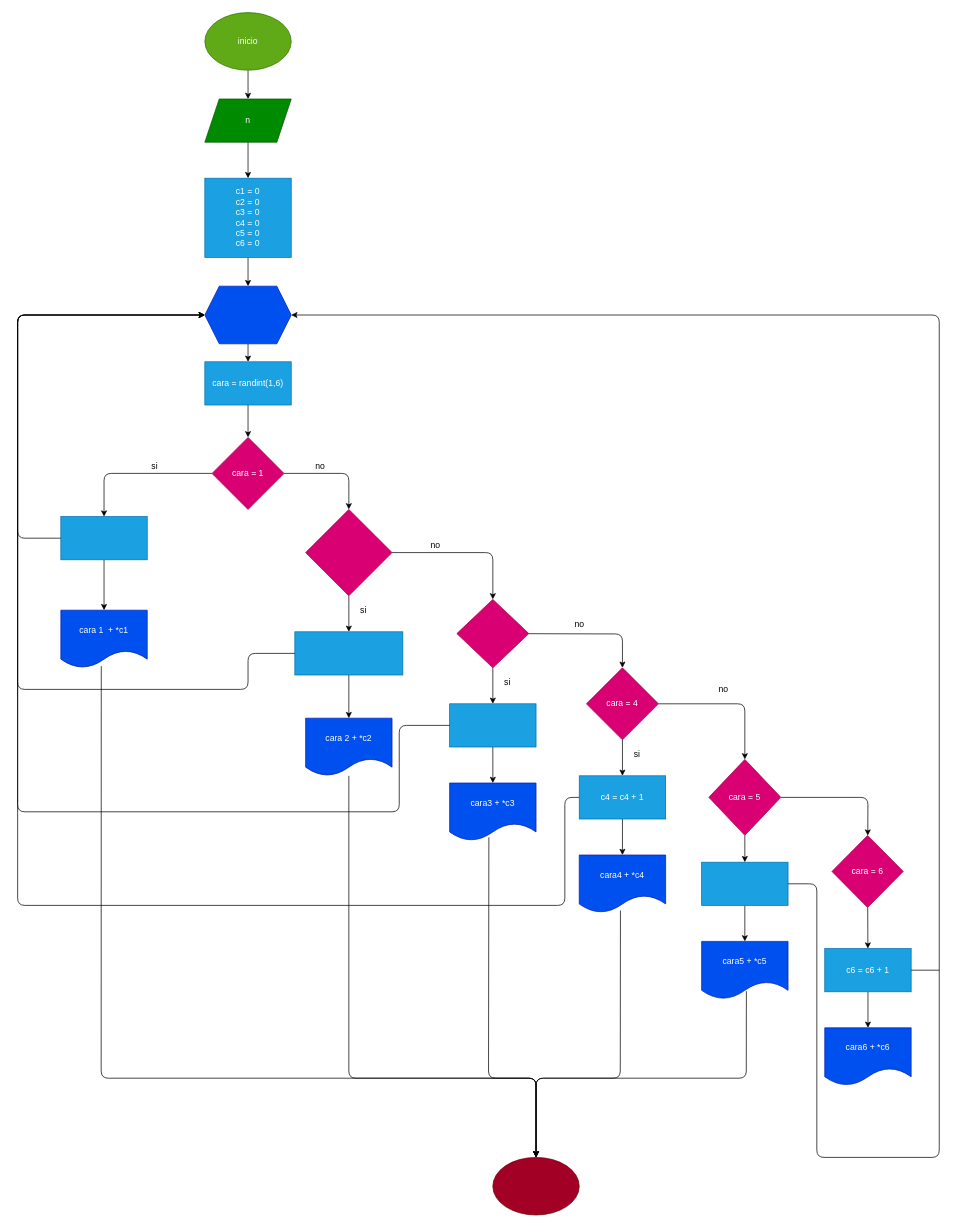
This 958x1228 diagram has some shape labels left out. Each missing label, with the centre of its shape:
"c1 = c1 + 1" goes at [103,538].
"c2 = c2 + 1" goes at [348,653].
"c3 = c3 + 1" goes at [492,725].
"c5 = c5 + 1" goes at [744,883].
"cara = 2" goes at [348,552].
"cara = 3" goes at [492,633].
"fin" goes at [535,1186].
"range (n)" goes at [247,314].
